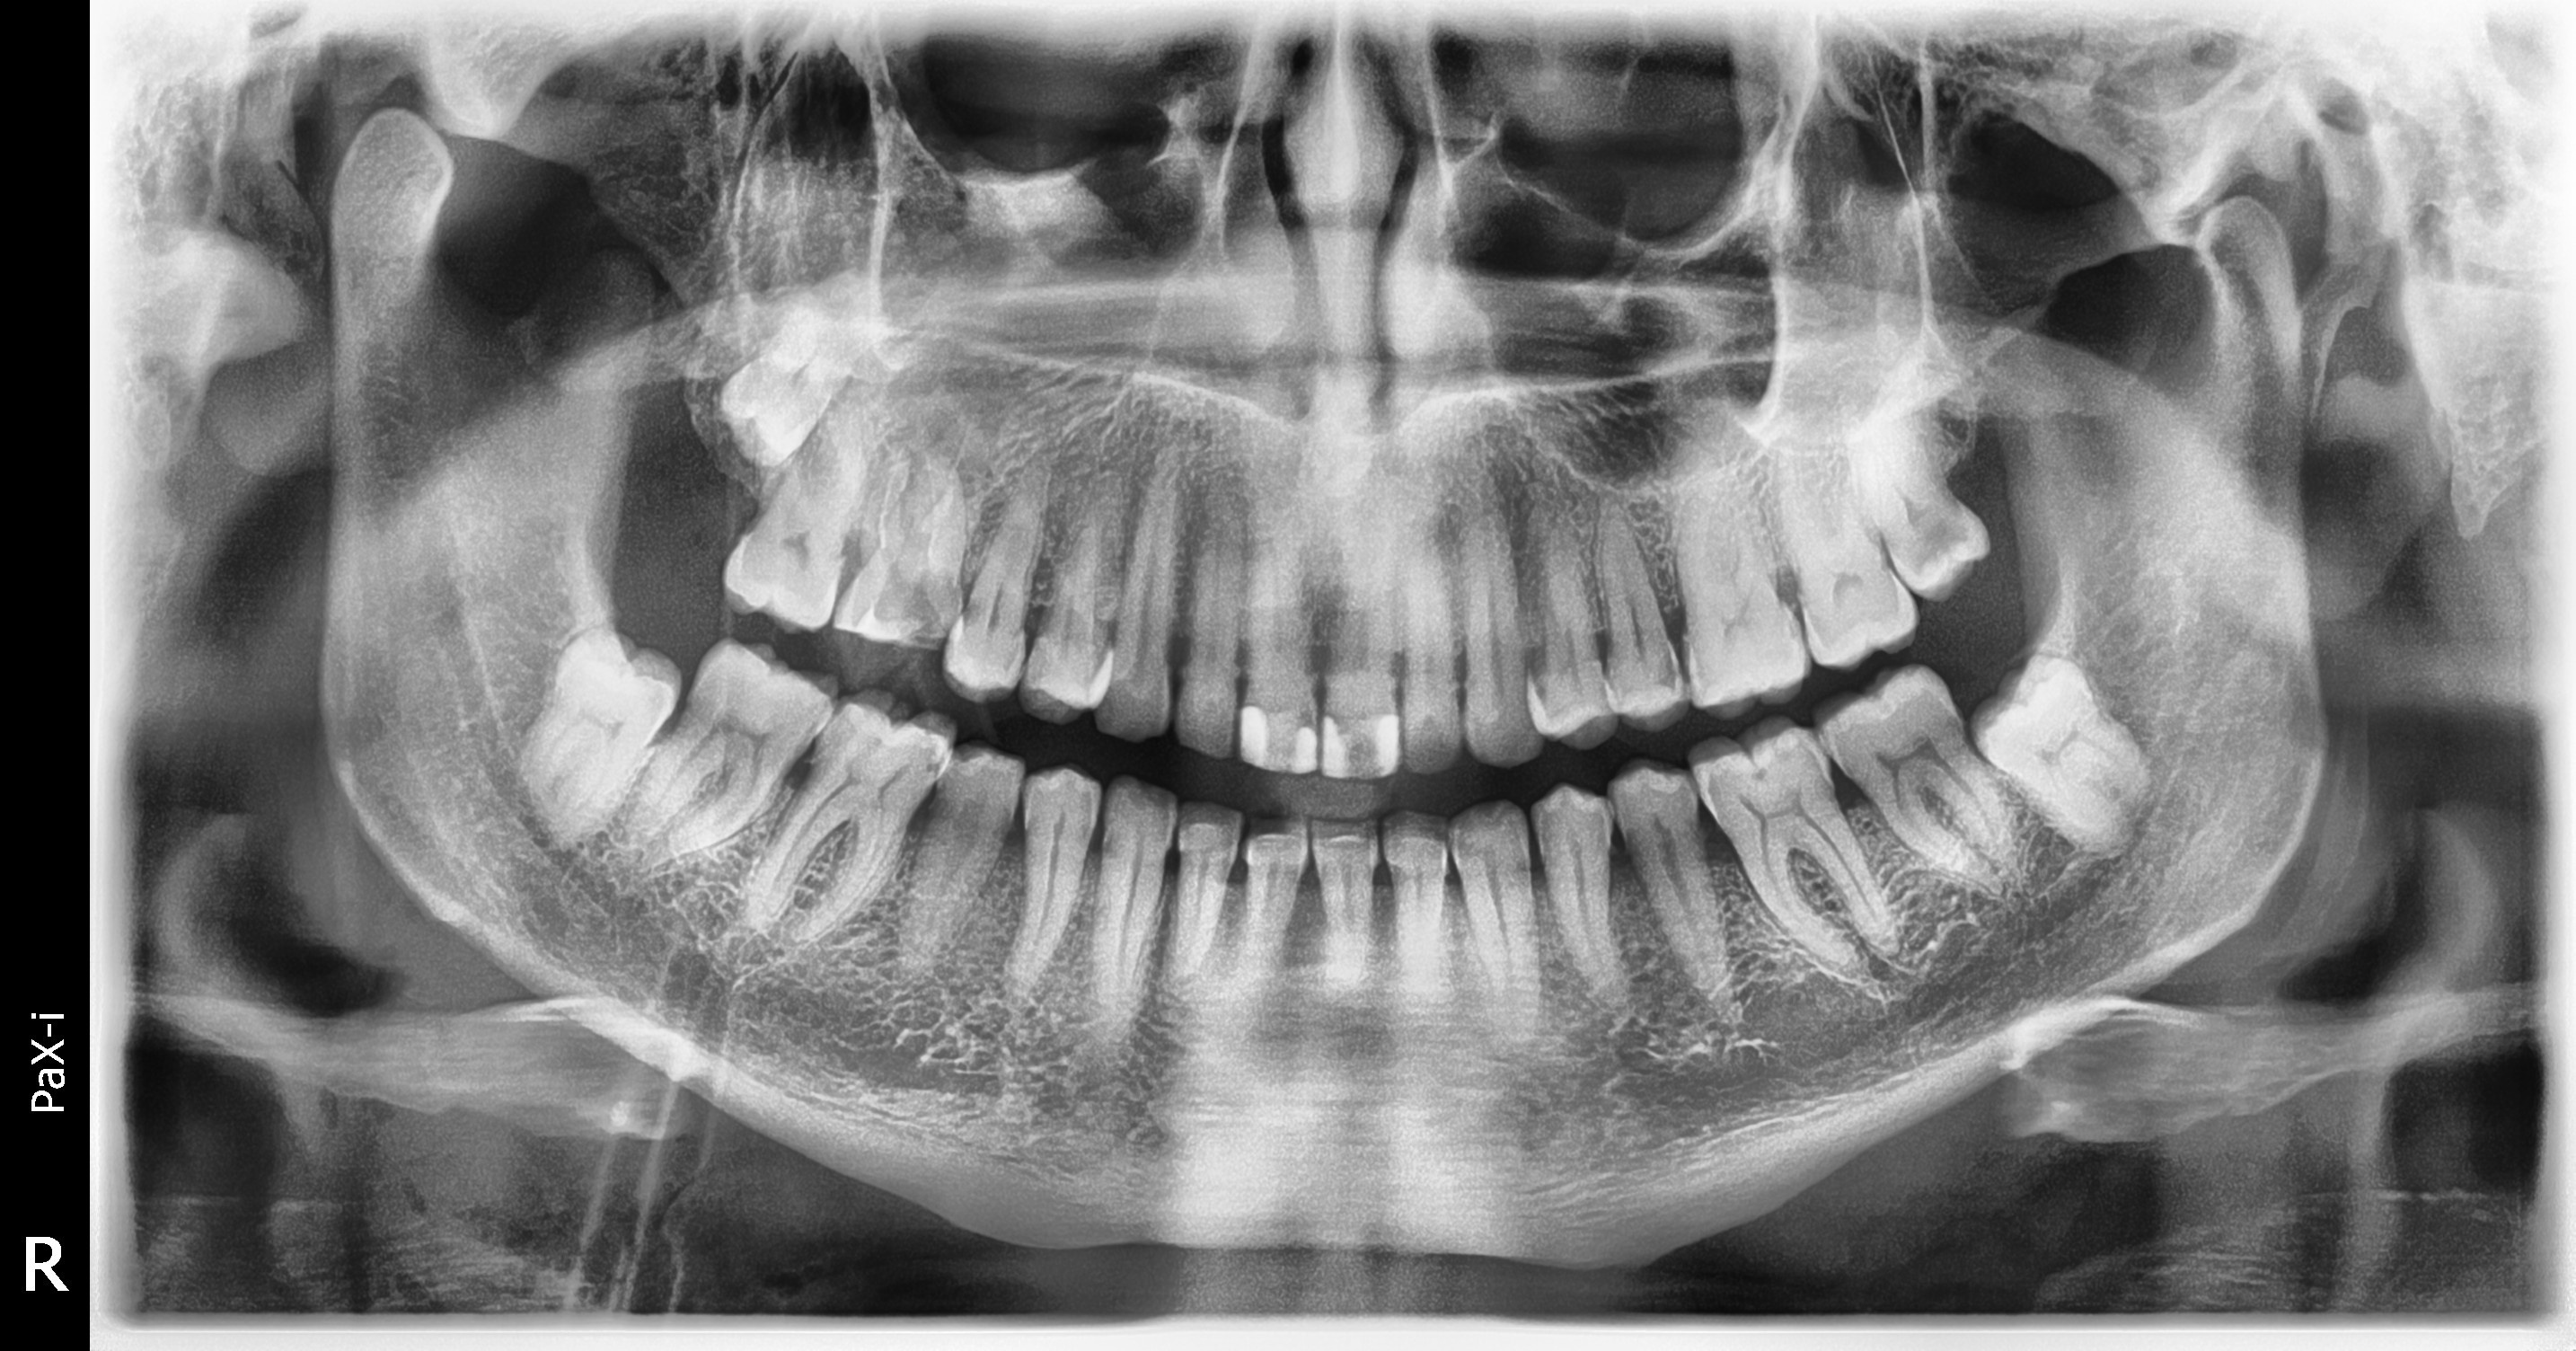BON: (310, 353, 983, 1102)
CAR: (394, 237, 1353, 891)
IMT: (290, 70, 1148, 540)
OBT: (404, 283, 1308, 927)
